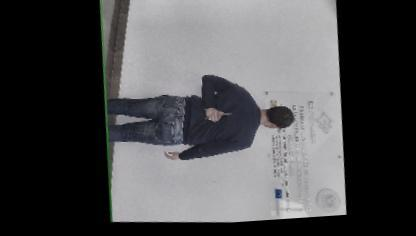knife: (198, 110, 232, 126)
